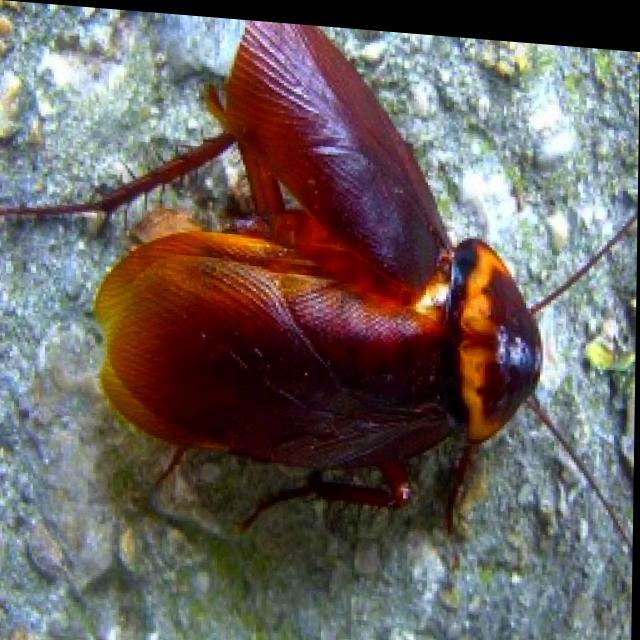cockroach: (55, 54, 569, 550)
